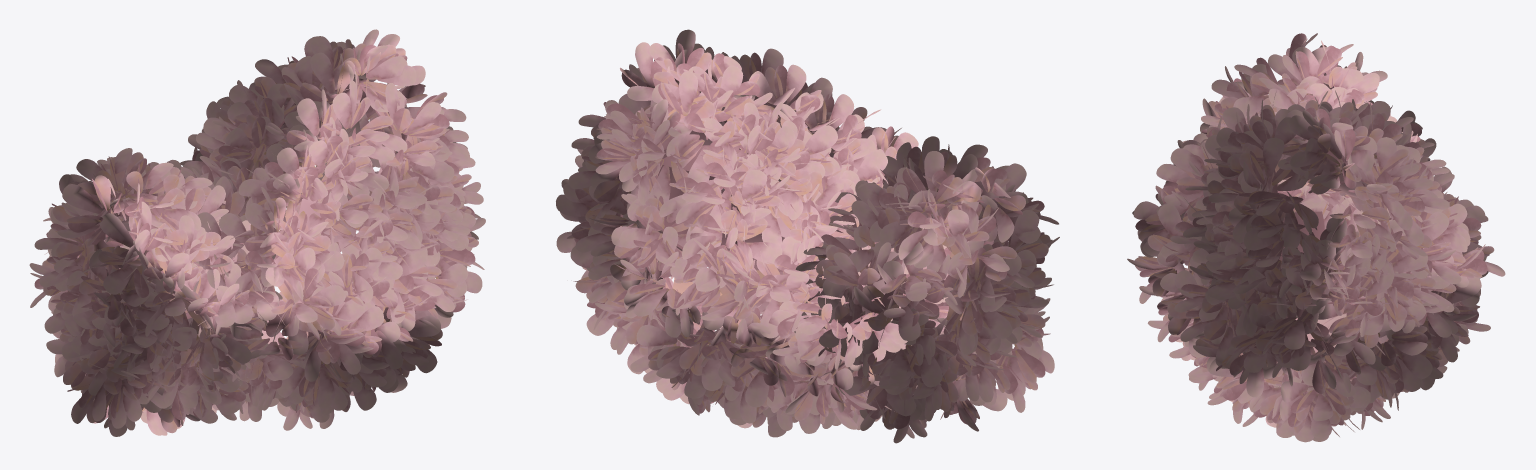
The model's file is FoliageEnsembleTree2.fbx.
3 renders of one model, left to right at view 1: azimuth 30°, elevation 25°; view 2: azimuth 150°, elevation 25°; view 3: azimuth 270°, elevation 25°, orthographic. The views are drawn at different scales.
Parts seen in each view (by area): view 1: Plane054; view 2: Plane054; view 3: Plane054.
Part boxes in pixels (bbox=[...]): Plane054: bbox=[29, 29, 485, 436]; Plane054: bbox=[556, 29, 1059, 443]; Plane054: bbox=[1127, 33, 1505, 442].
Bounding box in the file's own units: 433 × 343 × 339.
